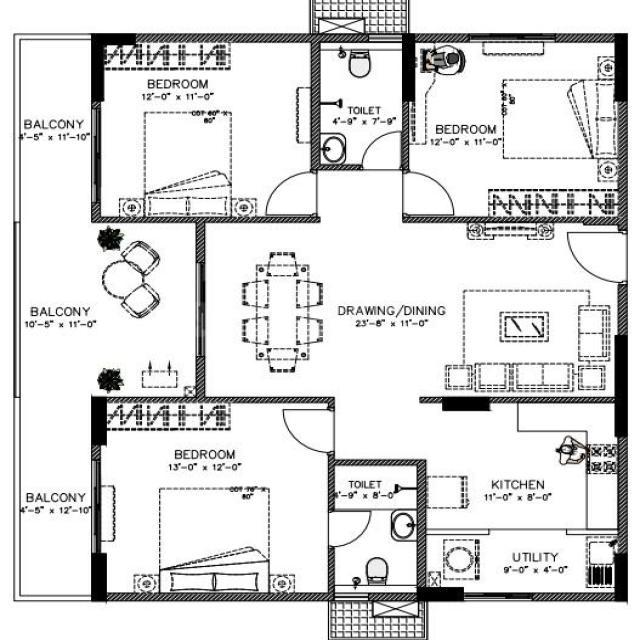Balcony-Sitout: (17, 35, 204, 599)
Bedroom: (92, 34, 319, 222), (404, 35, 625, 222)
Bedroom with Toilet: (91, 396, 426, 603)
Dining: (236, 242, 329, 376)
Enterance-Foyer: (558, 219, 634, 286)
Kitchen: (419, 397, 626, 529)
Living: (405, 218, 626, 401)
Toilet: (312, 35, 409, 171), (330, 462, 422, 597)
Utility: (421, 531, 626, 598)
